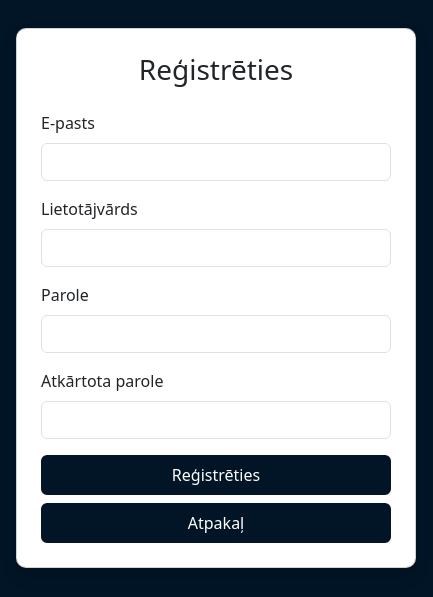
Test: Register › [LM1_T4] ERR3 - [Atkārtotai] Parolei jābūt 8-64 simbolu garai
The width and height of the screenshot is (433, 597).
Type "valid@email.com" into the field named "email" at point(216, 162), box [41,143,391,181]
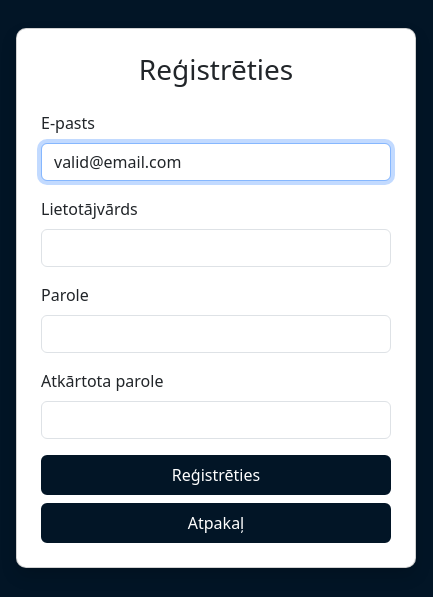
Type "validuser" into the field named "username" at point(216, 248), box [41,229,391,267]
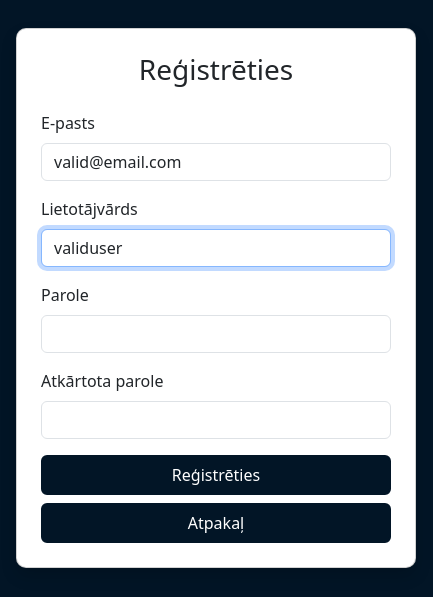
Type "ValidPassword123!" into the password field named "password" at point(216, 334), box [41,315,391,353]
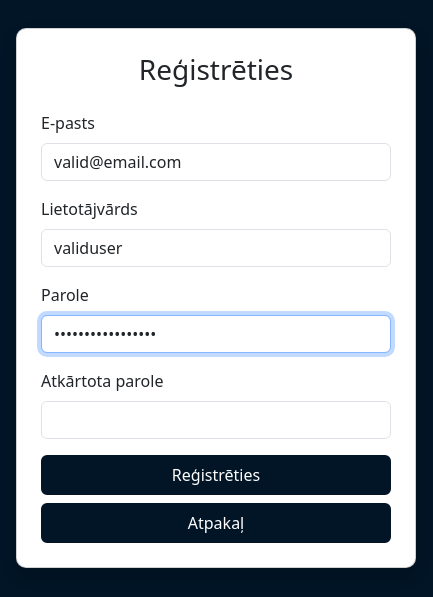
Type "short" into the password field named "repeatPassword" at point(216, 420), box [41,401,391,439]
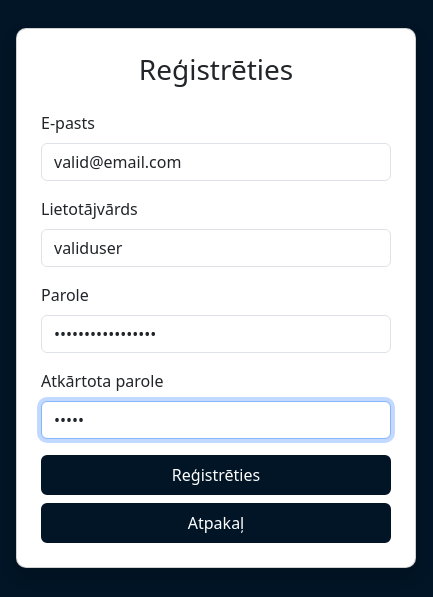
Click the submit button at point(216, 475), box [41,455,391,495]
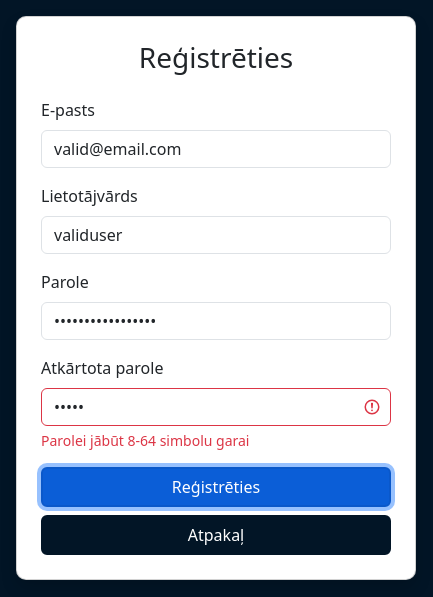
Check: the text with class "invalid-feedback" reads "Parolei jābūt 8-64 simbolu garai", box [41,431,249,450]
